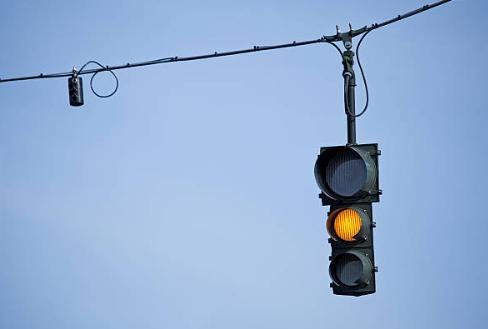yellow_light: (314, 143, 382, 295)
